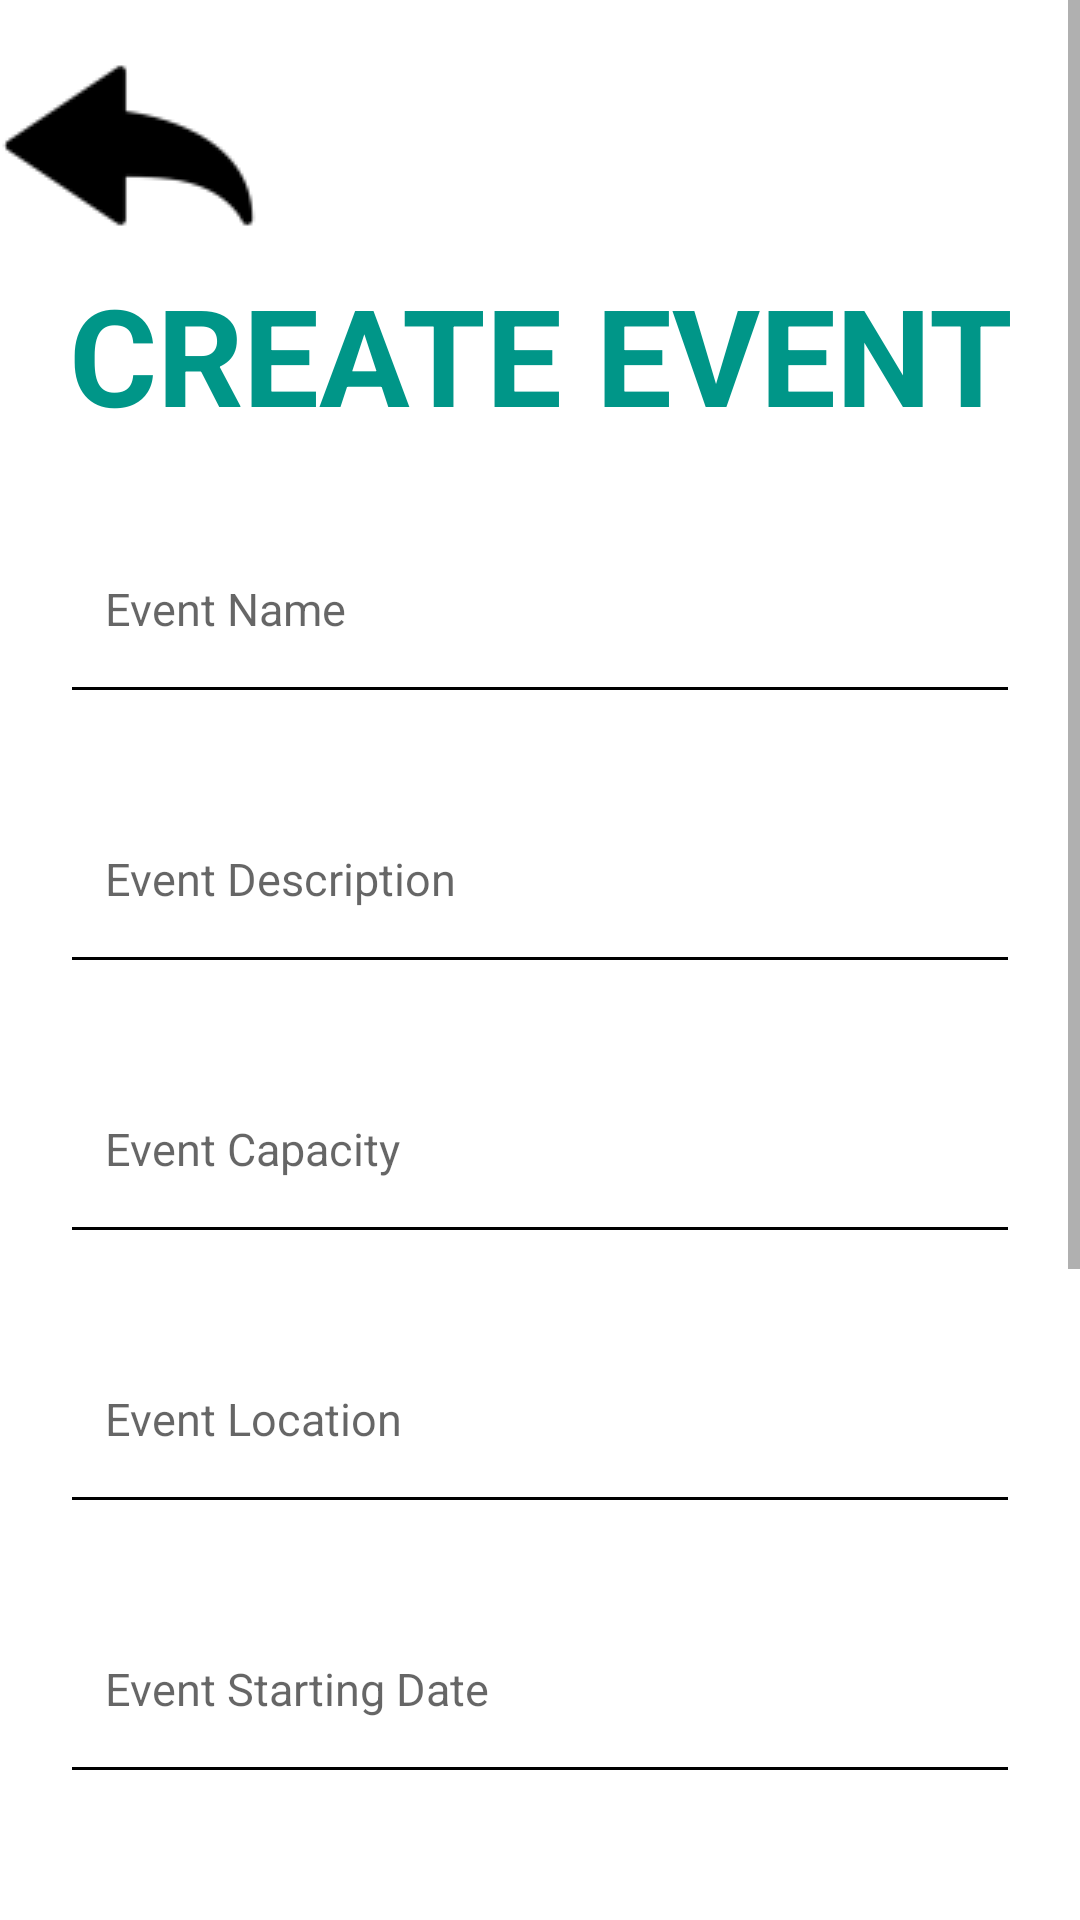

Named icons in this screenshot (1080*1920) and their centers, (x,y):
back arrow image: (129,145)
